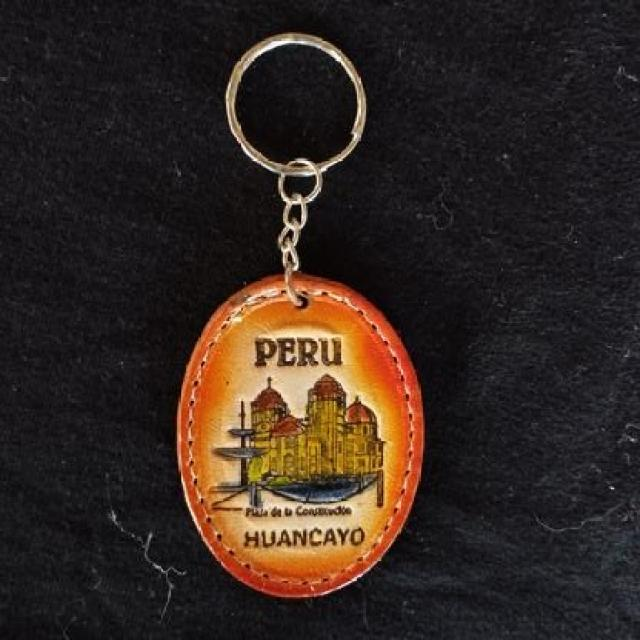Llavero: (174, 271, 426, 598)
